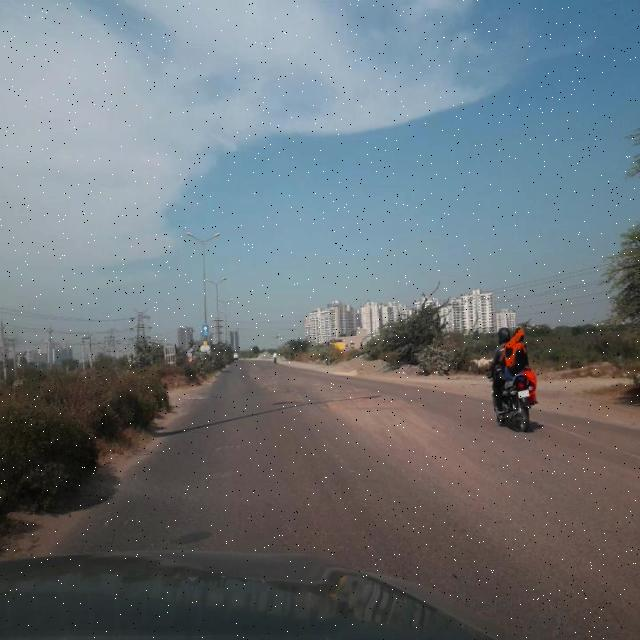D00: (543, 419, 640, 456)
D40: (323, 390, 406, 420), (251, 373, 301, 394), (205, 460, 234, 486)
